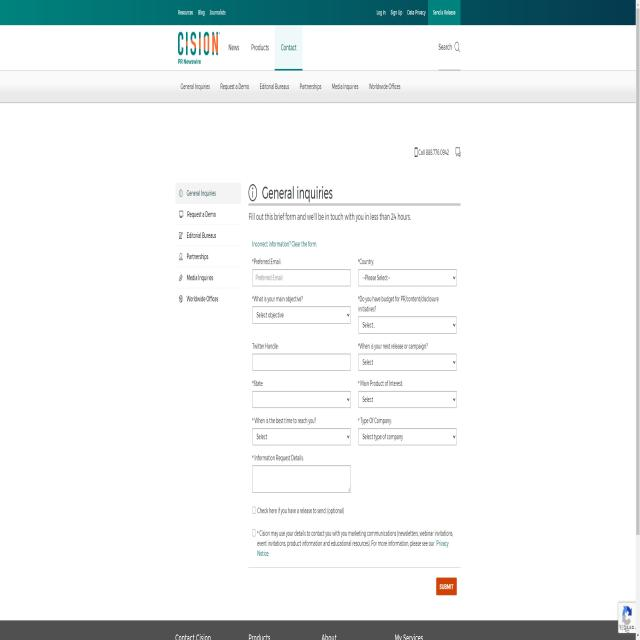menu-bar: (374, 2, 465, 26)
menu-panel: (174, 206, 242, 318)
tab-bar: (180, 70, 402, 100), (222, 29, 304, 73)
